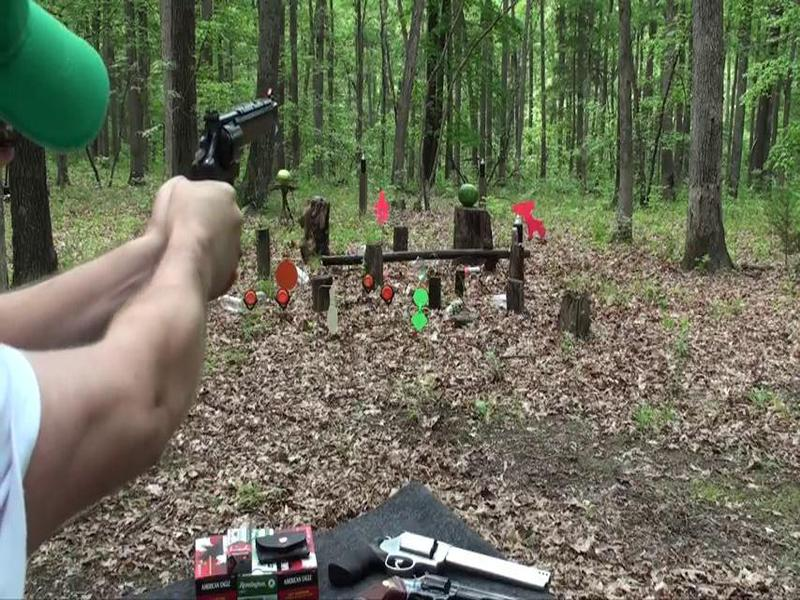Revolver: (177, 84, 290, 205)
